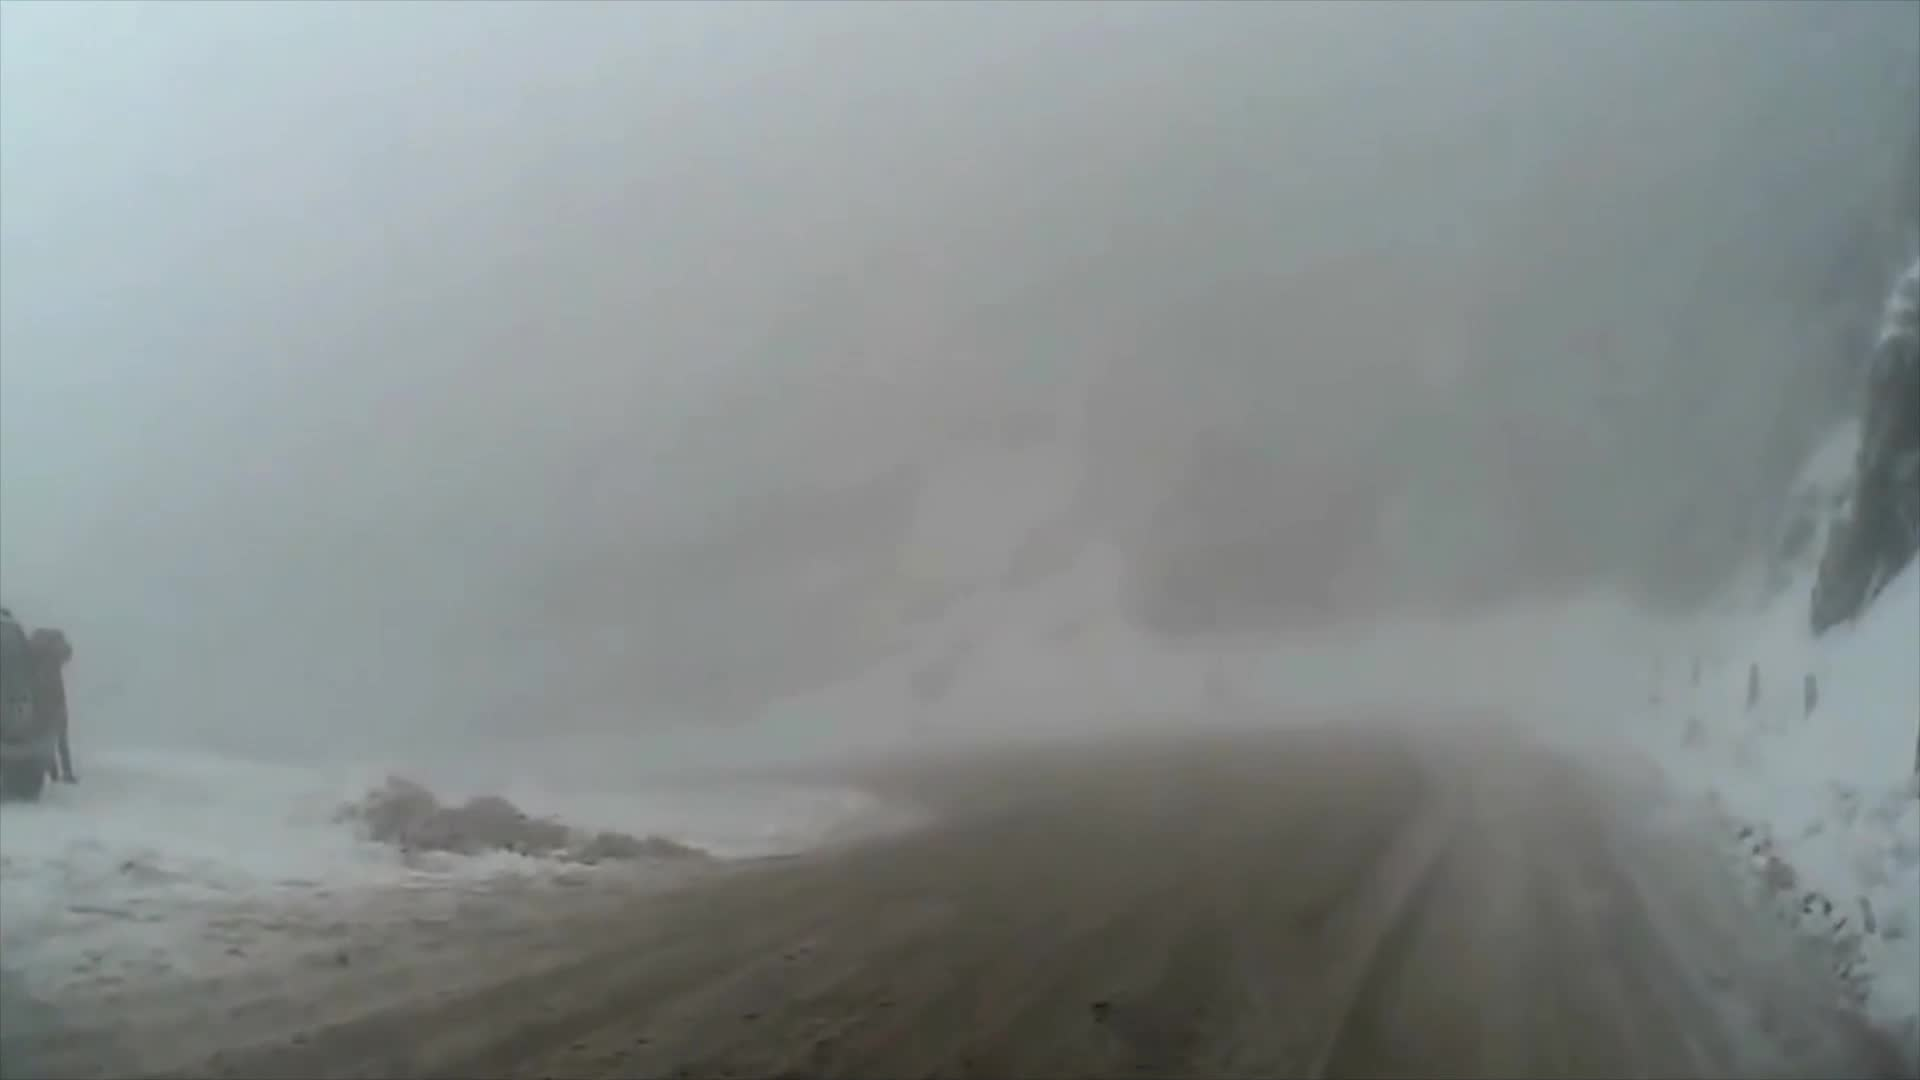vehicle: (0, 612, 51, 802)
